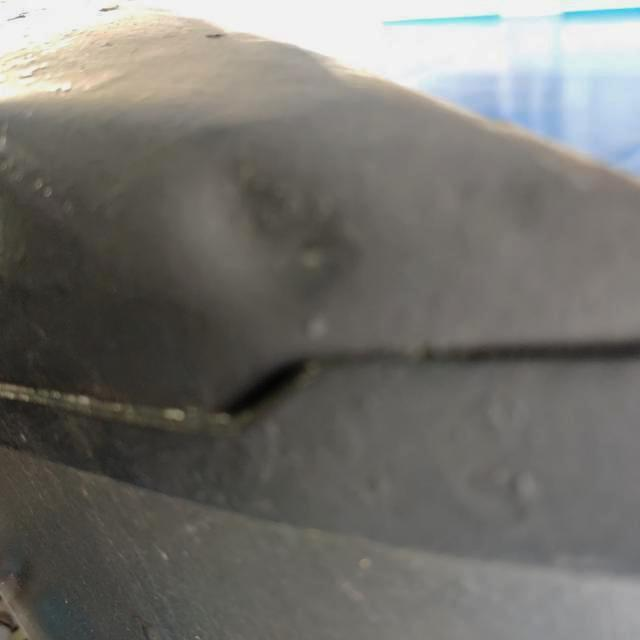dent: (149, 121, 385, 346)
